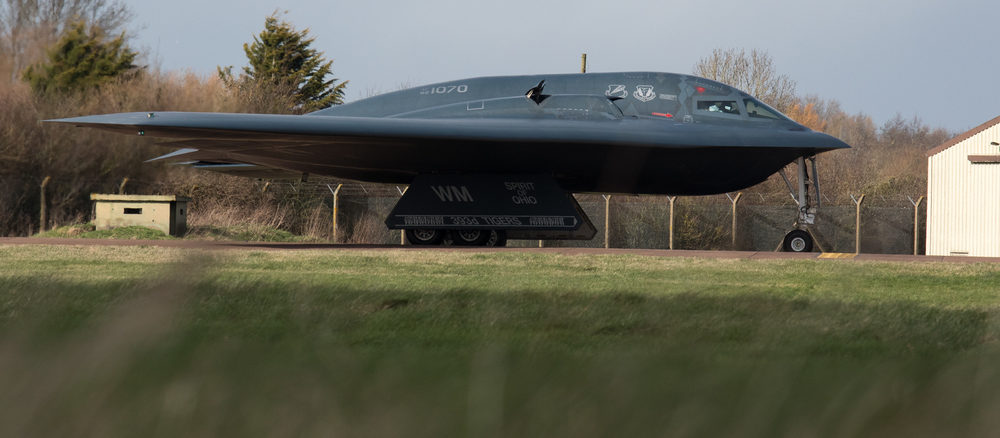B2: (36, 71, 852, 252)
